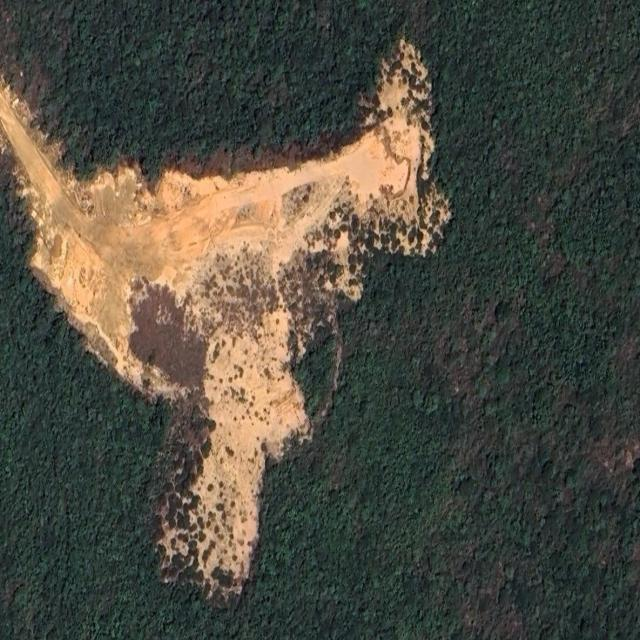noVegetation: (0, 40, 450, 600)
vegetation: (0, 2, 640, 638)
